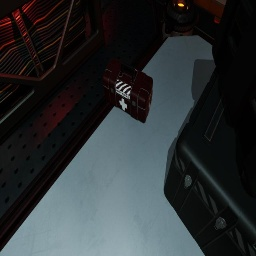FirstAidBox ,: (103, 58, 153, 123)
